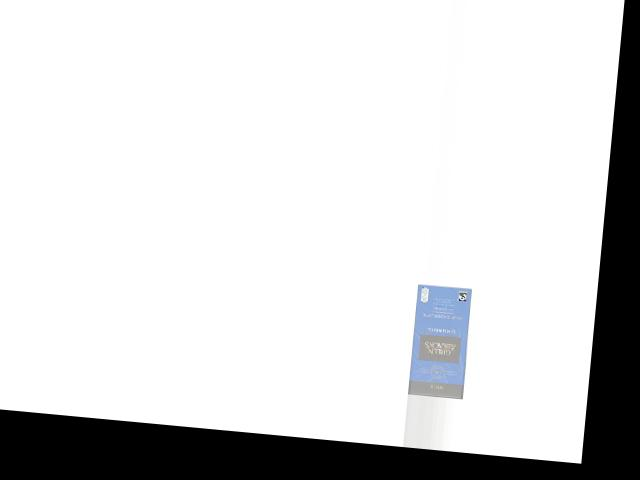chocolate: (406, 285, 473, 399)
